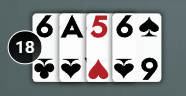5: (86, 12, 112, 40)
6: (32, 13, 58, 40), (112, 13, 138, 40)
a: (58, 12, 85, 42)
